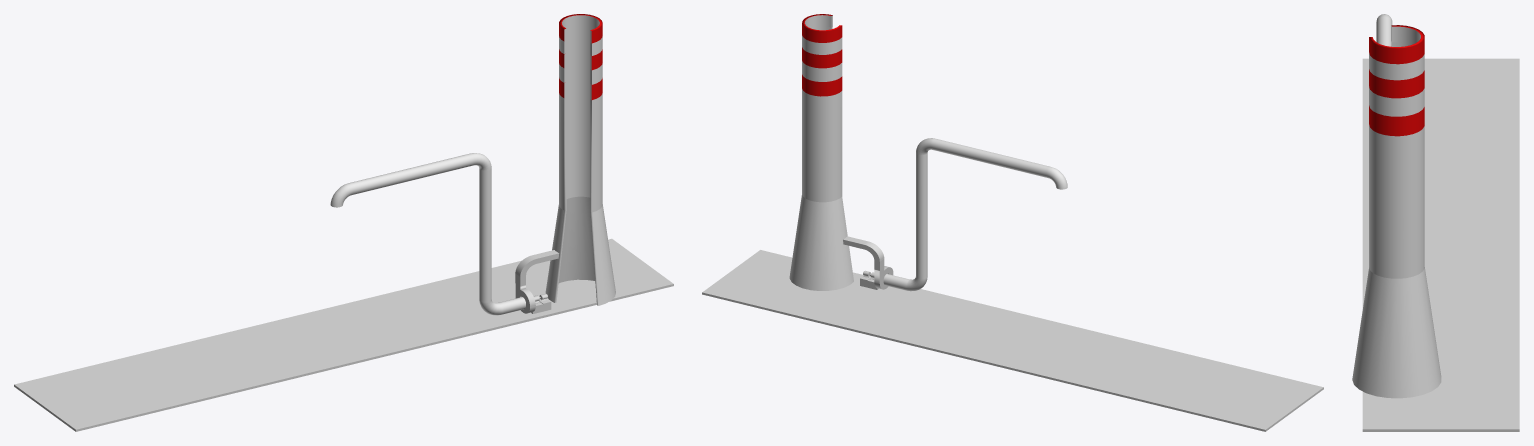
Rendered from right upper image scene_v003.fbx.
3 views of the same model, side by side, from view 1: azimuth 30°, elevation 25°; view 2: azimuth 150°, elevation 25°; view 3: azimuth 270°, elevation 25° (orthographic). The views are drawn at different scales.
Parts seen in each view (by area): view 1: polySurface859, polySurface914, polySurface894, polySurface911; view 2: polySurface859, polySurface914, polySurface894, polySurface911; view 3: polySurface859, polySurface914, polySurface911, polySurface894.
Boxes of the visible parts, x1=… form: polySurface859: x1=14, y1=238, x2=673, y2=431; polySurface914: x1=545, y1=27, x2=615, y2=305; polySurface894: x1=330, y1=153, x2=525, y2=315; polySurface911: x1=559, y1=14, x2=602, y2=99; polySurface859: x1=702, y1=250, x2=1323, y2=431; polySurface914: x1=789, y1=26, x2=853, y2=290; polySurface894: x1=883, y1=138, x2=1067, y2=291; polySurface911: x1=802, y1=14, x2=842, y2=96; polySurface859: x1=1362, y1=58, x2=1519, y2=431; polySurface914: x1=1352, y1=42, x2=1441, y2=398; polySurface911: x1=1369, y1=25, x2=1424, y2=136; polySurface894: x1=1376, y1=14, x2=1392, y2=46.
Size of the model in its own units: 272 by 118 by 51.95.
